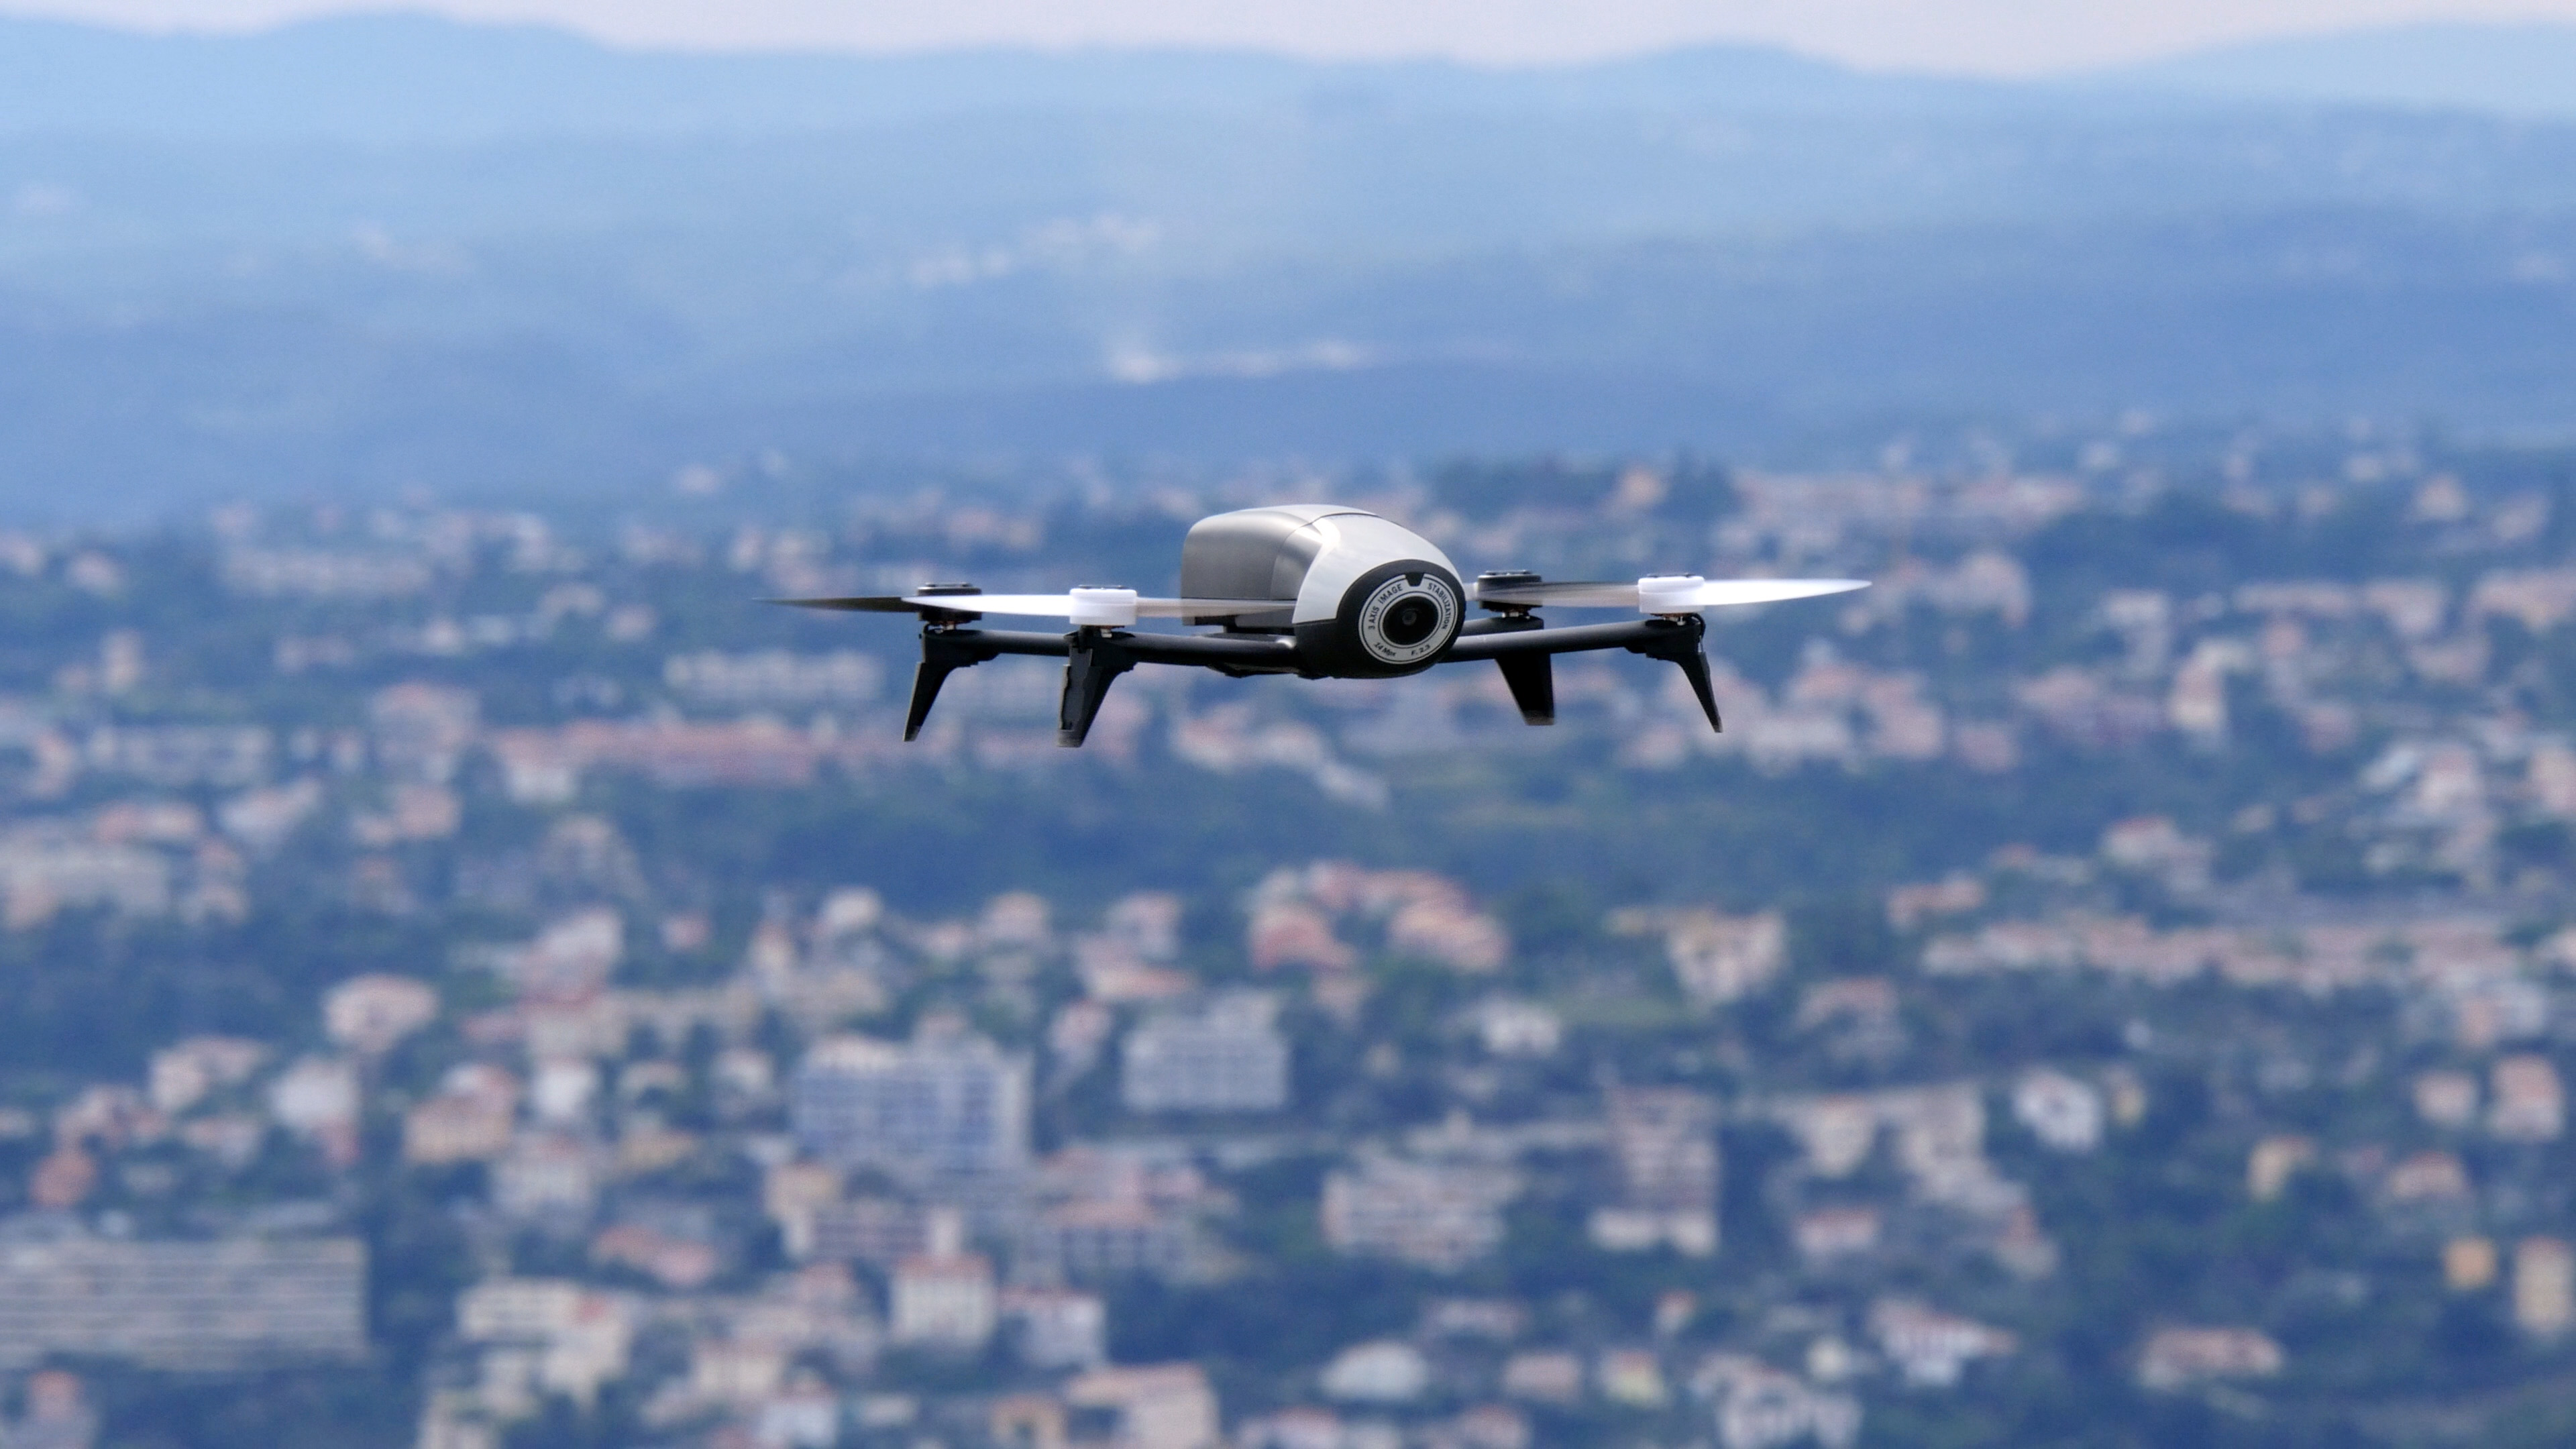drone: (732, 495, 1900, 755)
